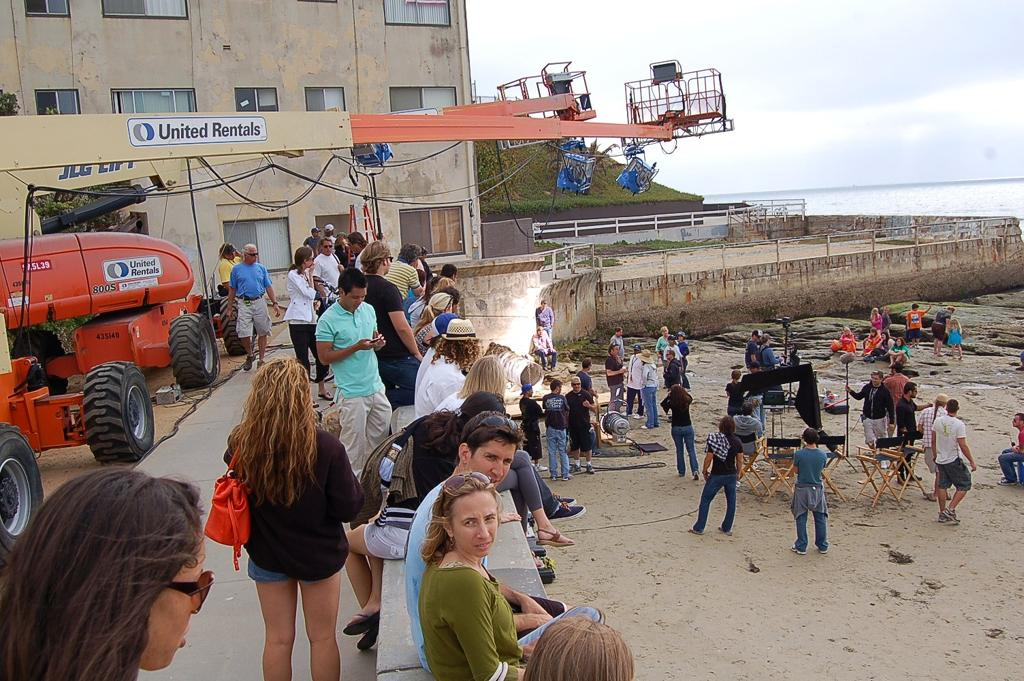face: (147, 516, 206, 665), (451, 491, 497, 556), (470, 435, 517, 489), (345, 285, 366, 312), (246, 248, 256, 263), (384, 252, 391, 273), (322, 241, 331, 254), (871, 374, 880, 385), (1011, 415, 1019, 427), (224, 250, 235, 258), (305, 254, 311, 268), (572, 381, 580, 391), (911, 387, 917, 398), (612, 346, 618, 356), (526, 388, 532, 397), (662, 329, 668, 336), (750, 366, 757, 372), (896, 338, 901, 346), (633, 348, 639, 354), (678, 335, 684, 341), (617, 329, 622, 336), (666, 352, 671, 359), (881, 333, 886, 340), (754, 334, 759, 341), (542, 302, 547, 308), (537, 330, 542, 336), (668, 339, 673, 345), (843, 329, 848, 335), (870, 331, 874, 336)
